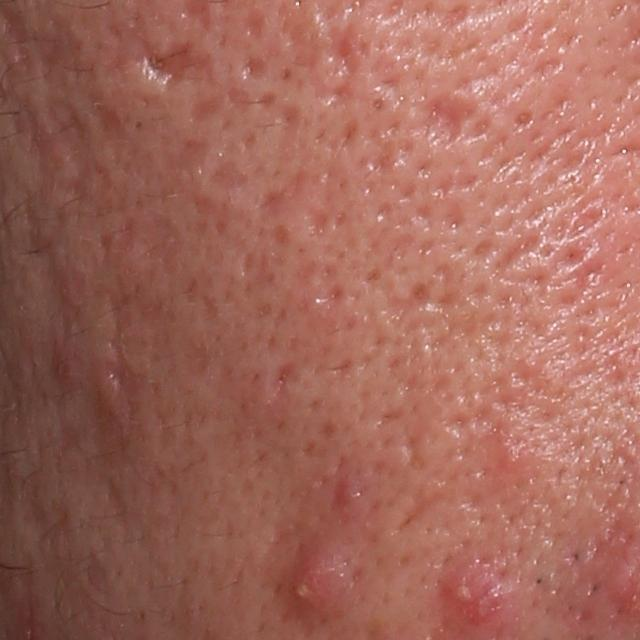atrophic_scar: (289, 21, 369, 118), (97, 21, 213, 86), (413, 90, 480, 152), (393, 480, 450, 539), (109, 342, 155, 405), (386, 278, 436, 330), (207, 138, 251, 193), (316, 275, 355, 319), (187, 88, 227, 128), (299, 199, 333, 241), (263, 356, 300, 392), (238, 53, 275, 87), (254, 186, 287, 223), (400, 430, 424, 471)
papule: (286, 545, 344, 622), (90, 356, 122, 426), (49, 340, 80, 389), (500, 440, 533, 475), (332, 474, 362, 508)
